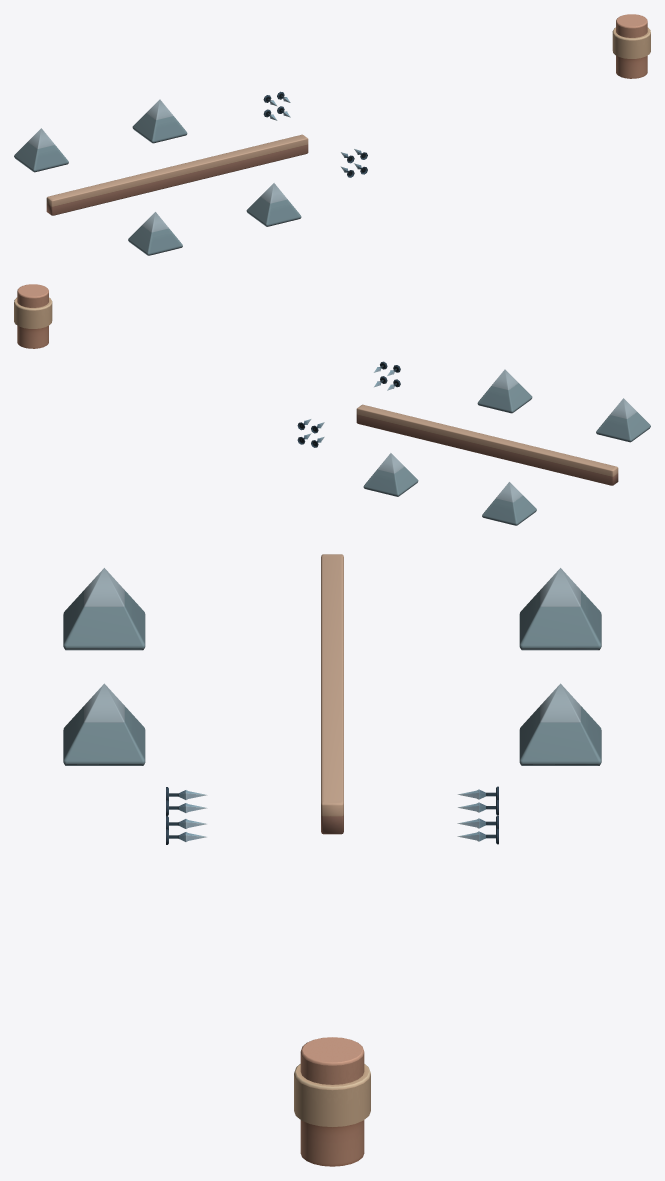
File: Props.fbx
3 views of the same model, one above another, from view 1: azimuth 30°, elevation 25°; view 2: azimuth 150°, elevation 25°; view 3: azimuth 270°, elevation 25° (orthographic). The views are drawn at different scales.
Parts seen in each view (by area): view 1: Box20-3_1, 三角锥 (×4), Cylinder-2; view 2: Box20-3_1, 三角锥 (×4), Cylinder-2; view 3: 三角锥 (×4), Cylinder-2, Box20-3_1.
Boxes of the visible parts, left/top/right/bottom form: Box20-3_1: left=46, top=134, right=308, bottom=215; 三角锥 (×4): left=14, top=99, right=301, bottom=255; Cylinder-2: left=612, top=14, right=650, bottom=78; Box20-3_1: left=356, top=404, right=618, bottom=485; 三角锥 (×4): left=363, top=369, right=650, bottom=525; Cylinder-2: left=14, top=284, right=52, bottom=348; 三角锥 (×4): left=63, top=568, right=601, bottom=765; Cylinder-2: left=294, top=1037, right=370, bottom=1166; Box20-3_1: left=321, top=554, right=343, bottom=834.
Bounding box in the file's own units: 60.69 × 5.05 × 23.6.
